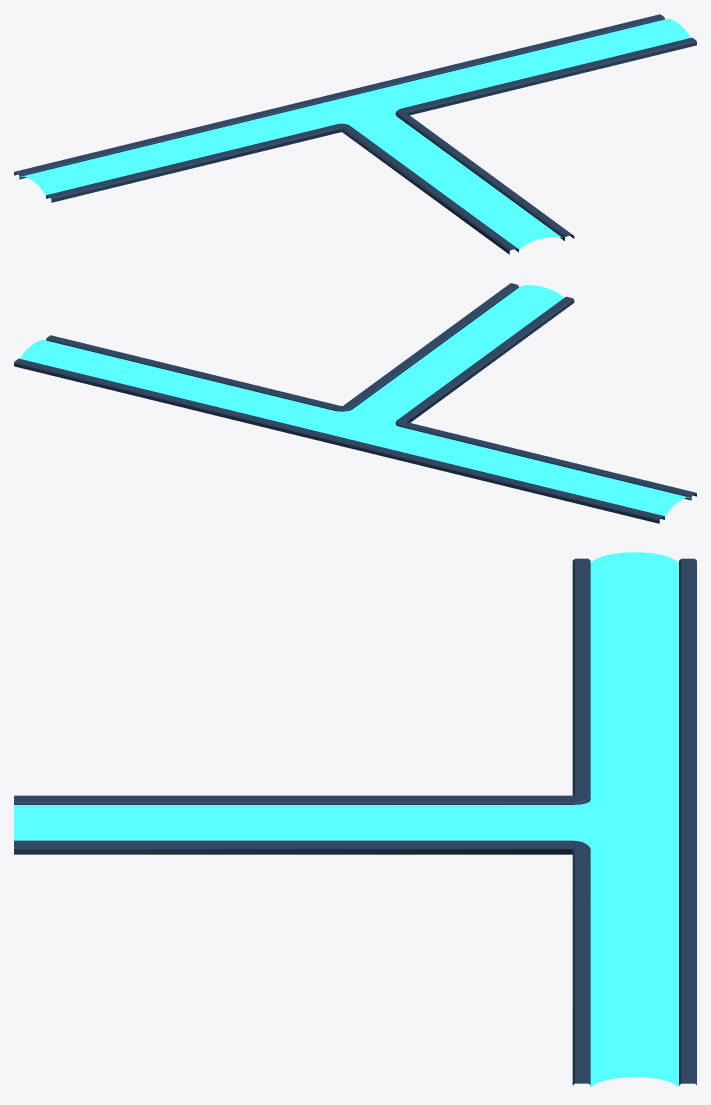
File: Light_Trim_01_RoundCrossT.fbx
The picture shows the model from 3 angles, top to bottom: view 1: azimuth 30°, elevation 25°; view 2: azimuth 150°, elevation 25°; view 3: azimuth 270°, elevation 25°; orthographic projection. The views are drawn at different scales.
Parts seen in each view (by area): view 1: Light_Trim_01_RoundCrossT.001; view 2: Light_Trim_01_RoundCrossT.001; view 3: Light_Trim_01_RoundCrossT.001.
Part boxes in pixels (x1,y1,x2,y2): Light_Trim_01_RoundCrossT.001: (14,14,696,254); Light_Trim_01_RoundCrossT.001: (14,283,696,523); Light_Trim_01_RoundCrossT.001: (14,552,696,1087).
Bounding box in the file's own units: 1 × 0.0123 × 0.55.
